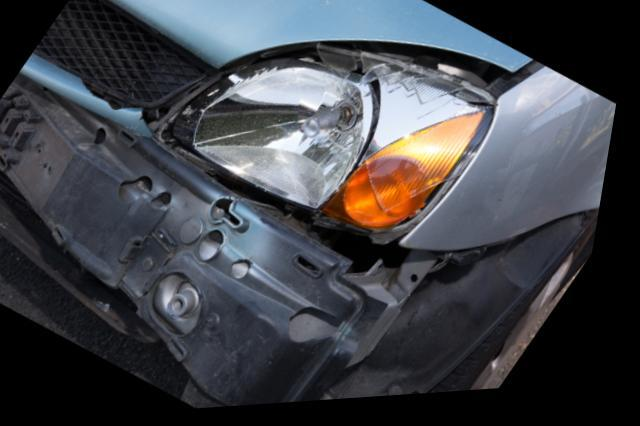lamp broken: (164, 50, 495, 246)
no part: (0, 69, 607, 411)
